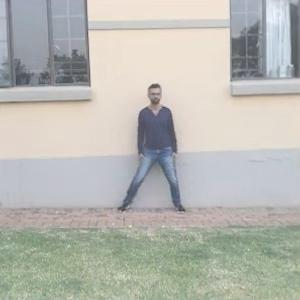follow: (137, 81, 177, 217)
